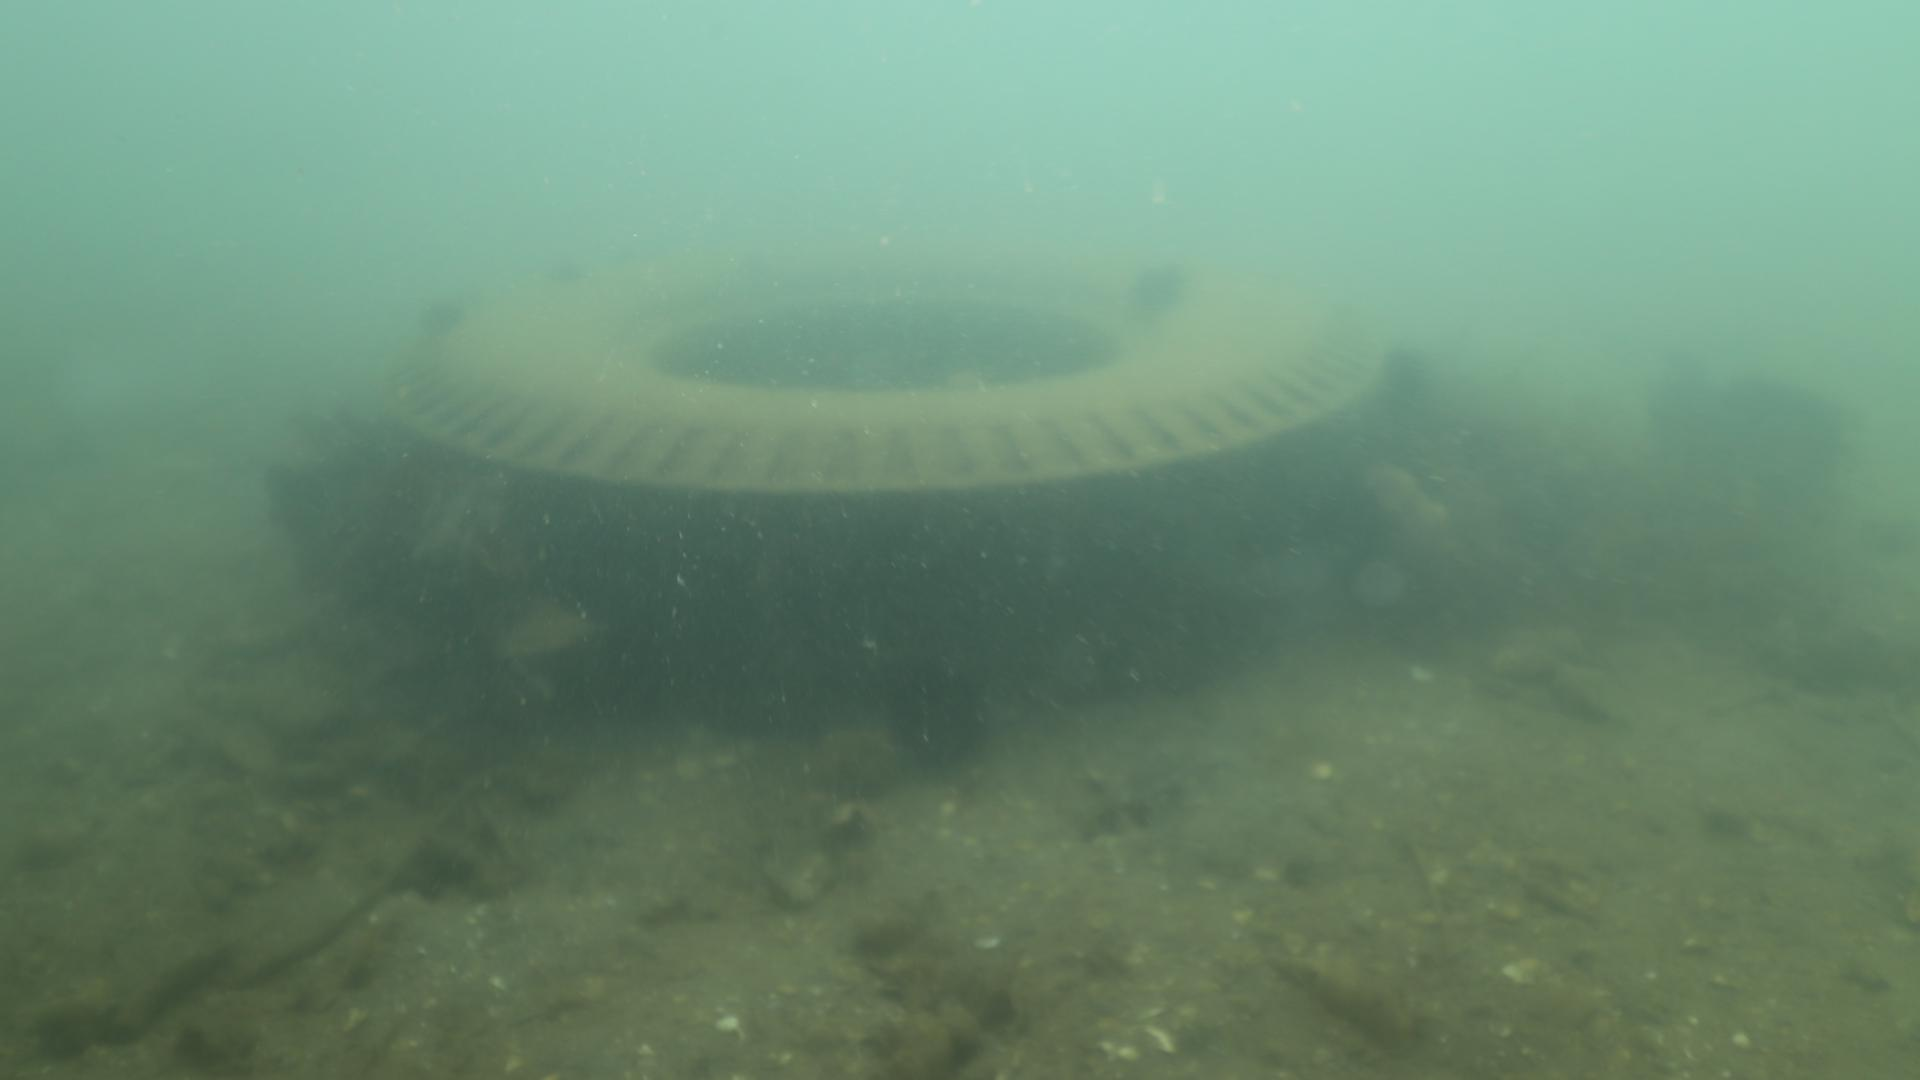tire: (371, 227, 1396, 713)
